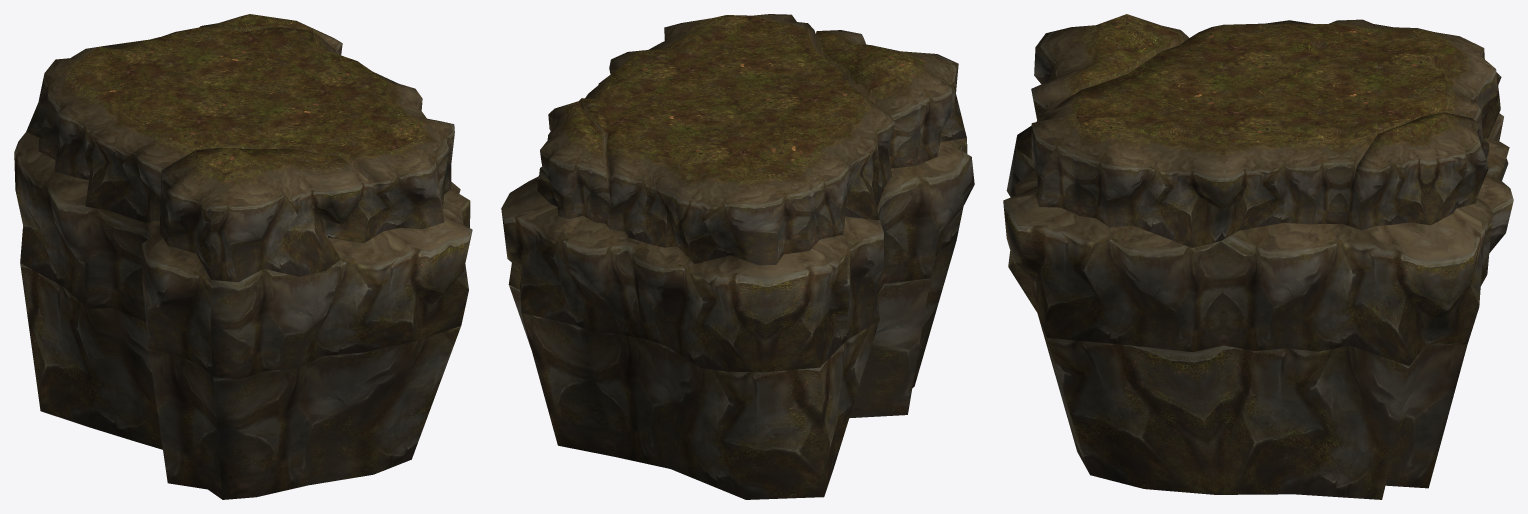
File: C_dimian003.fbx
The picture shows the model from 3 angles, left to right: view 1: azimuth 30°, elevation 25°; view 2: azimuth 150°, elevation 25°; view 3: azimuth 270°, elevation 25°; orthographic projection. The views are drawn at different scales.
Parts seen in each view (by area): view 1: C_dimian003; view 2: C_dimian003; view 3: C_dimian003.
Boxes of the visible parts, x1,y1,x2,y2 form: C_dimian003: (14, 14, 472, 499); C_dimian003: (501, 14, 974, 499); C_dimian003: (1003, 14, 1513, 499).
Bounding box in the file's own units: 2009 × 1927 × 2455.
